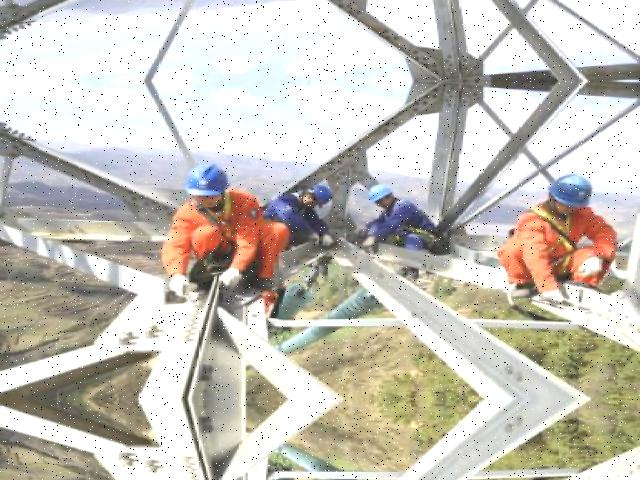Helmet: (178, 156, 236, 200), (547, 170, 599, 210), (307, 179, 339, 209), (370, 180, 398, 208)
